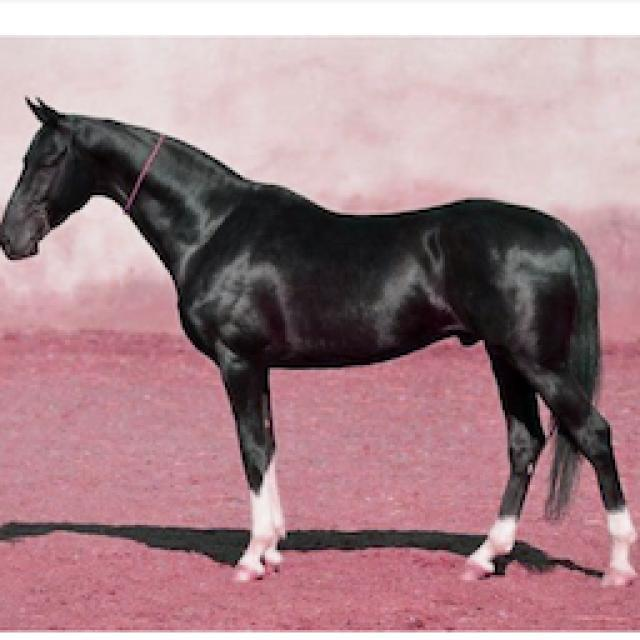Horse: (0, 88, 638, 592)
